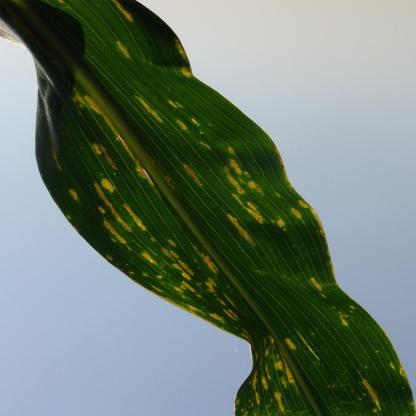corn leaf blight: (11, 3, 406, 416)
